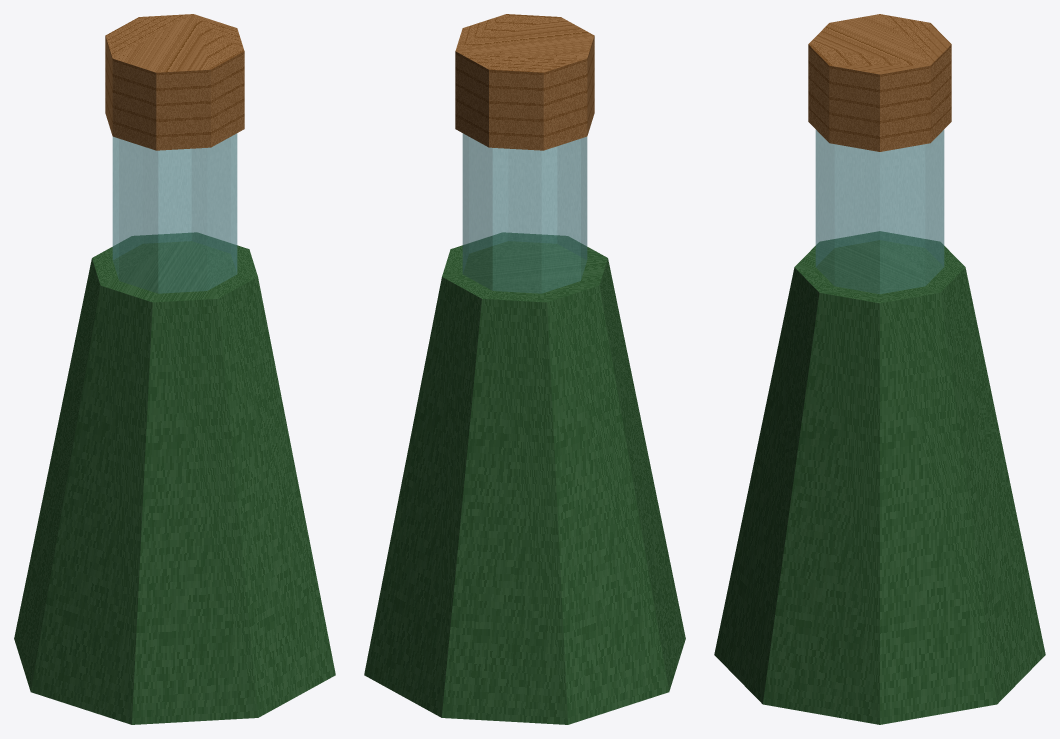
Rendered from potion_2.glb.
3 views of the same model, side by side, from view 1: azimuth 30°, elevation 25°; view 2: azimuth 150°, elevation 25°; view 3: azimuth 270°, elevation 25° (orthographic).
Visible parts, largest first — view 1: bottle, neck, cork; view 2: bottle, neck, cork; view 3: bottle, neck, cork.
Boxes of the visible parts, x1,y1,x2,y2 form: bottle: (14, 232, 335, 724); neck: (112, 133, 237, 293); cork: (105, 14, 244, 150); bottle: (364, 232, 685, 724); neck: (462, 133, 587, 293); cork: (455, 14, 594, 150); bottle: (714, 231, 1045, 724); neck: (815, 130, 944, 293); cork: (808, 14, 951, 151).
Size of the model in its own units: 0.31 by 0.63 by 0.31.
2 materials, 2 textured.
